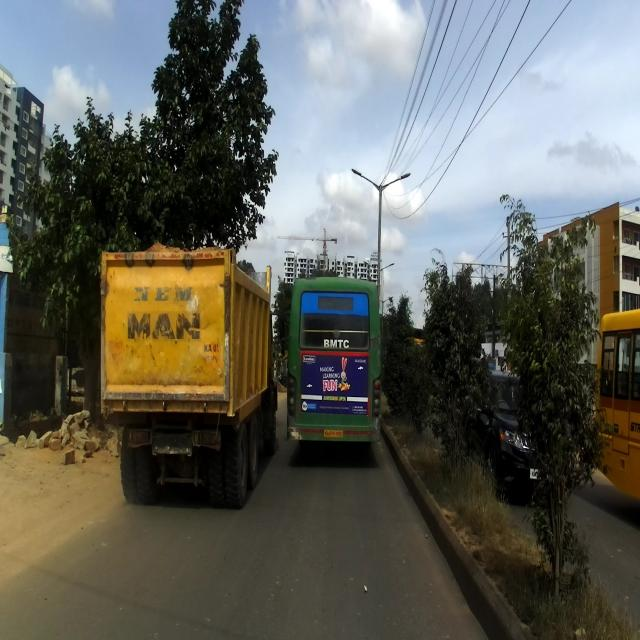bus: (286, 273, 382, 462)
truck: (98, 229, 279, 511)
